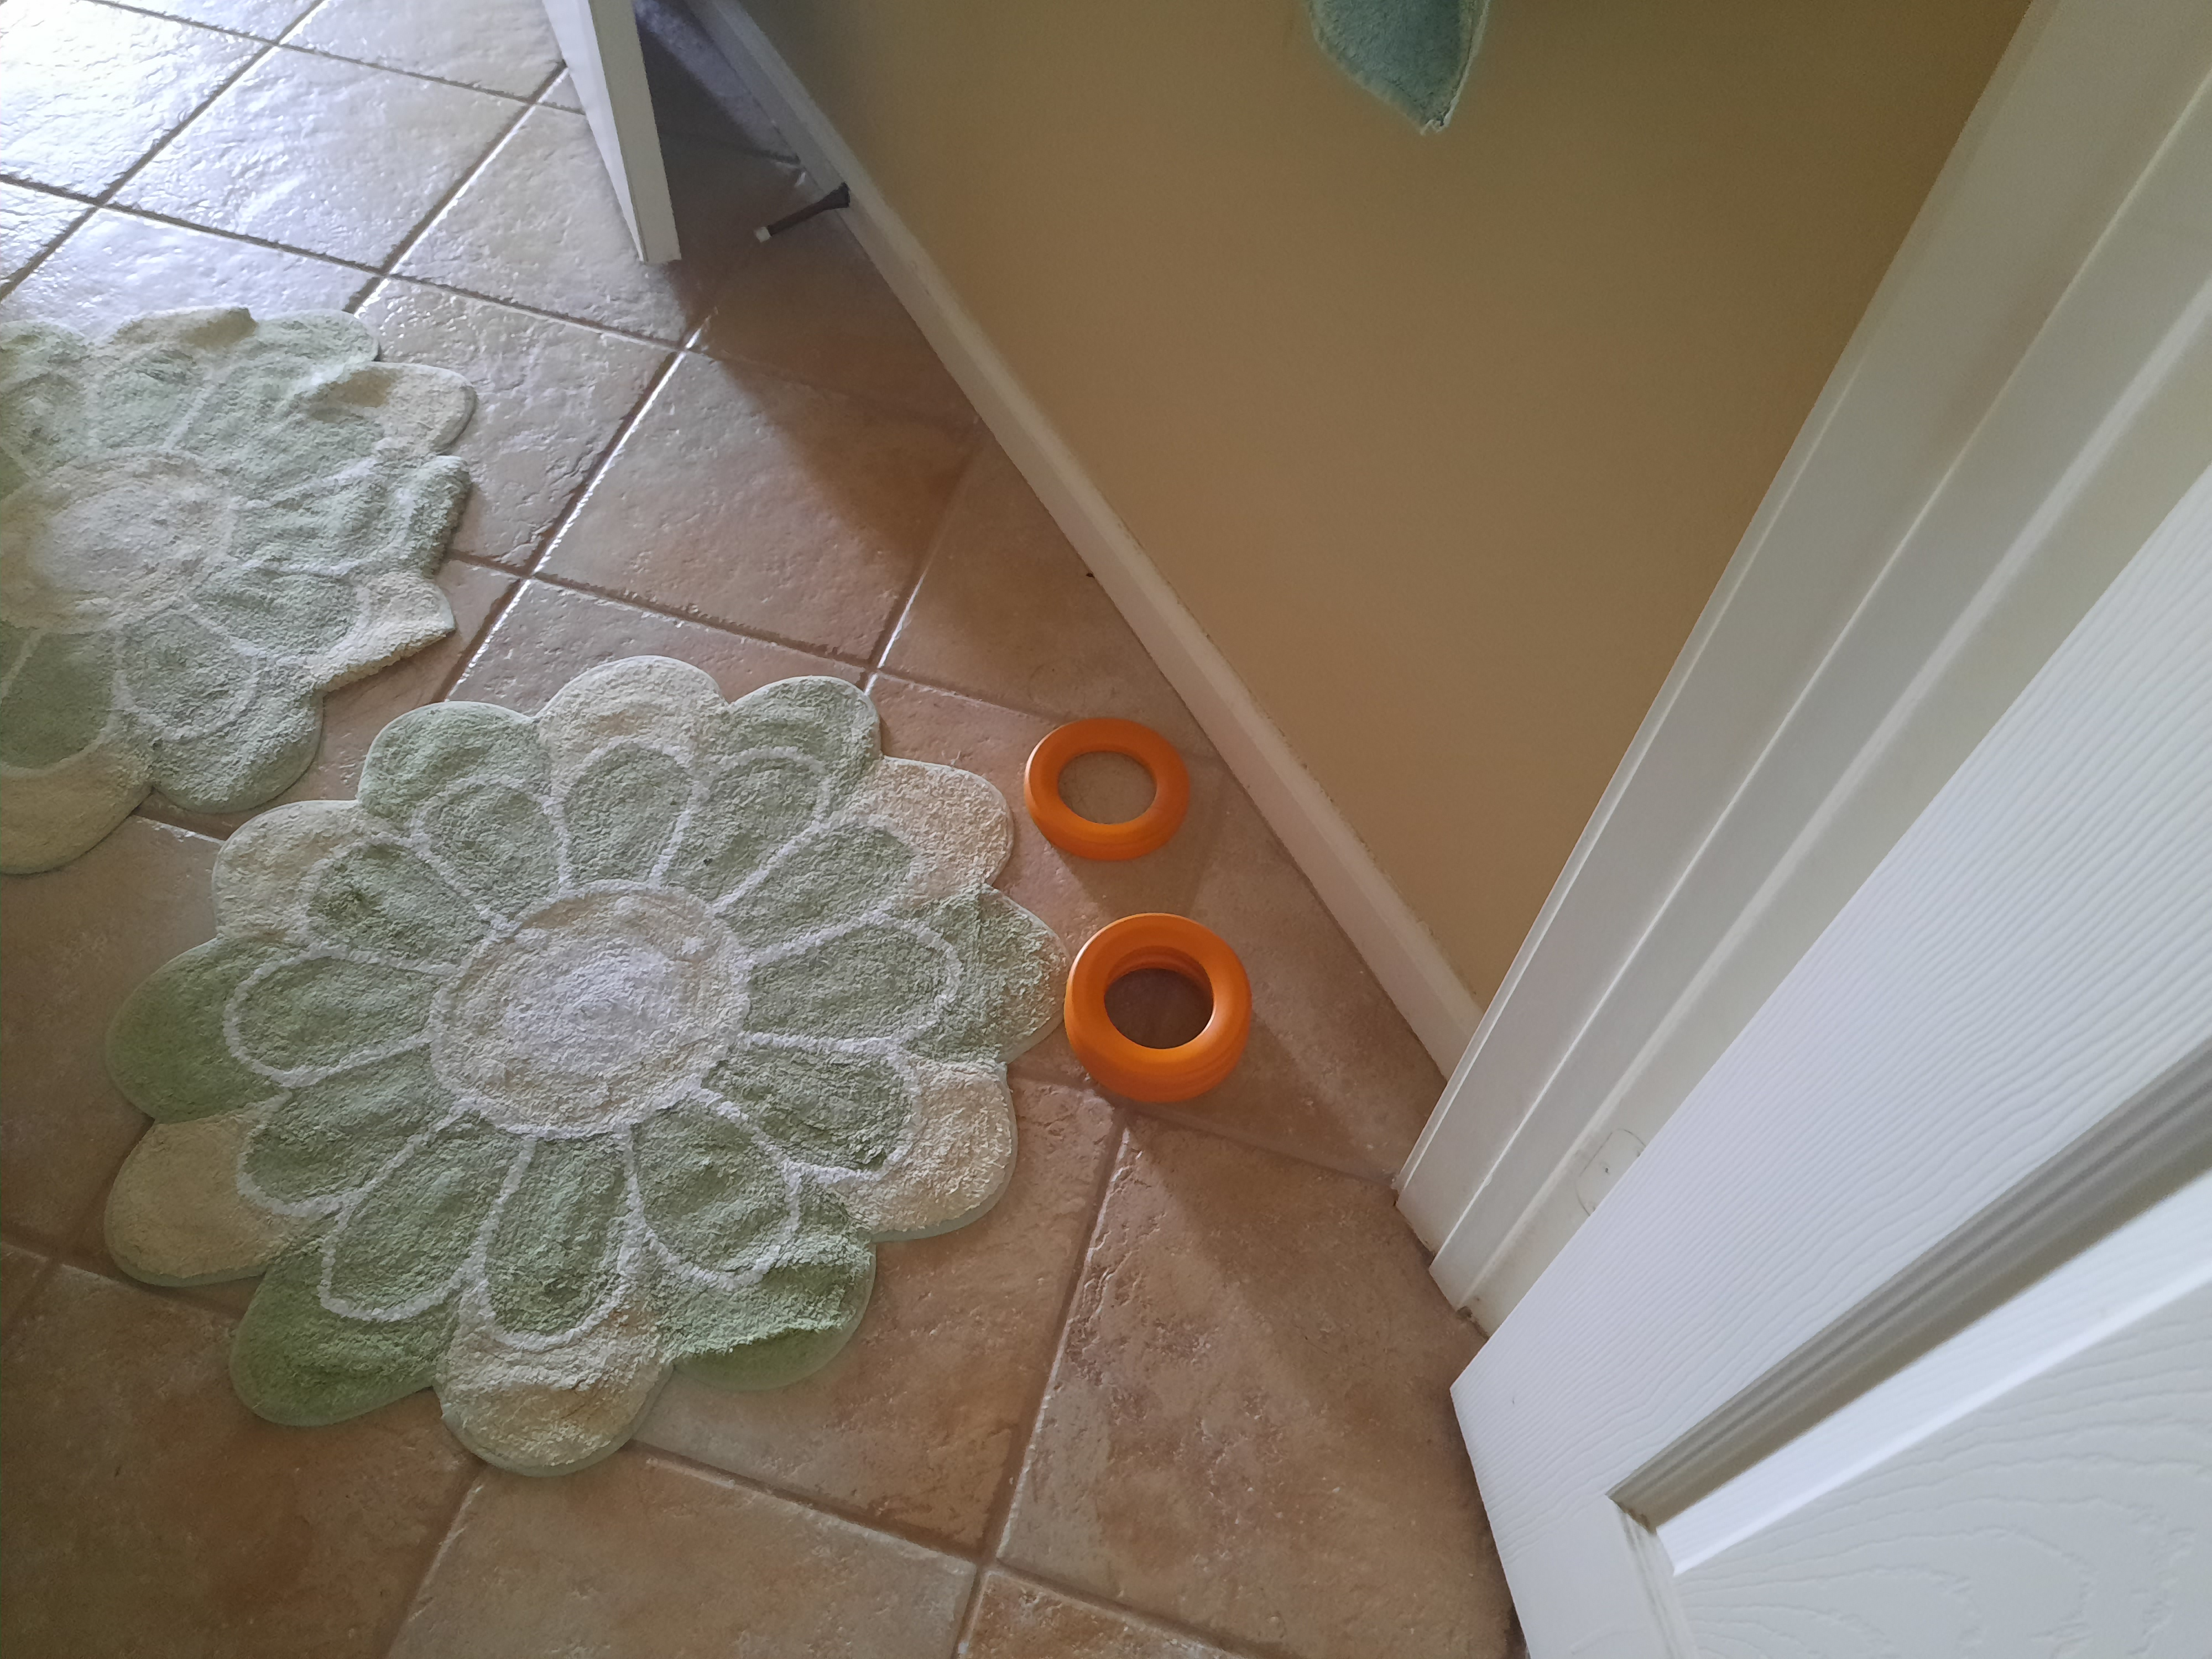FourStack: (1071, 917, 1240, 1091)
OneStack: (1031, 718, 1183, 856)
